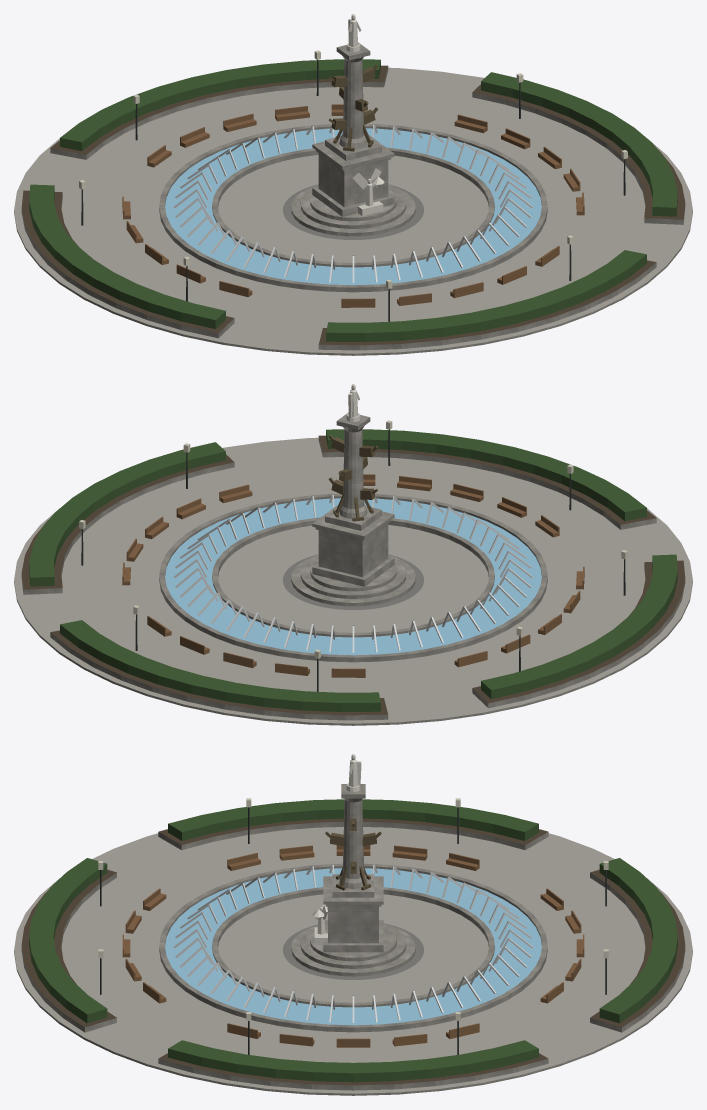
File: columbus_circle.glb
The picture shows the model from 3 angles, top to bottom: view 1: azimuth 30°, elevation 25°; view 2: azimuth 150°, elevation 25°; view 3: azimuth 270°, elevation 25°; orthographic projection.
Parts seen in each view (by area): view 1: columbus_circle; view 2: columbus_circle; view 3: columbus_circle.
Boxes of the visible parts, x1,y1,x2,y2 form: columbus_circle: [14, 14, 692, 355]; columbus_circle: [14, 384, 692, 725]; columbus_circle: [14, 754, 692, 1095].
Size of the model in its own units: 72 by 23.2 by 72.
Materials: 3 (2 with a texture image).
